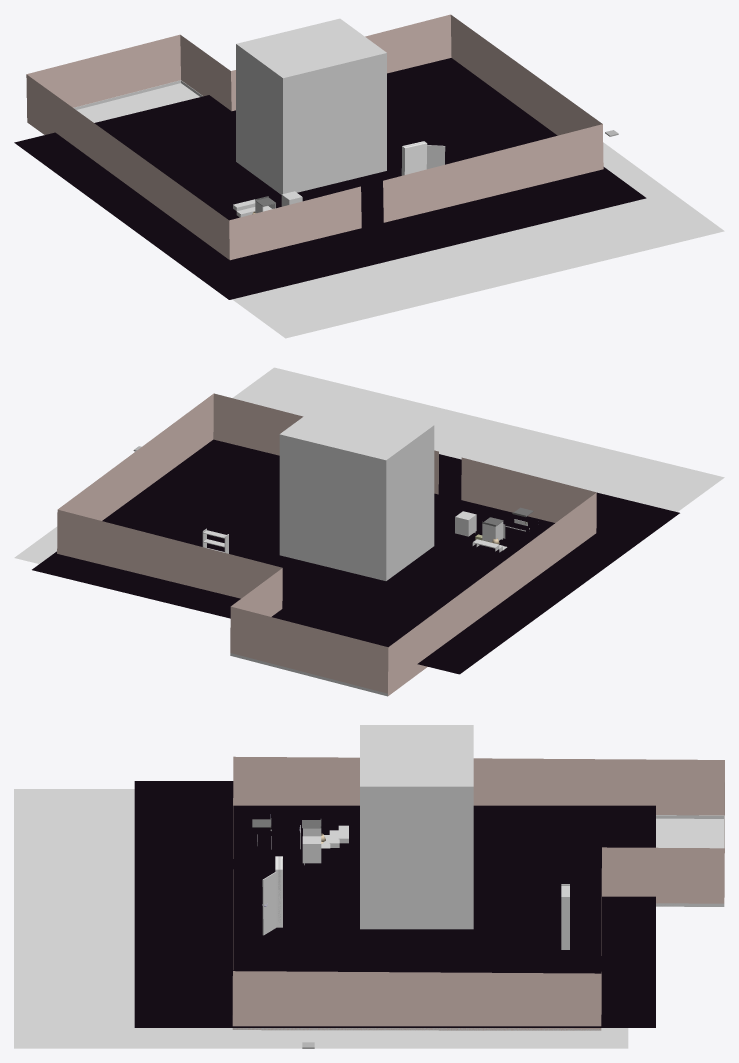
File: avi3.fbx
3 renders of one model, top to bottom at view 1: azimuth 30°, elevation 25°; view 2: azimuth 150°, elevation 25°; view 3: azimuth 270°, elevation 25°, orthographic. The views are drawn at different scales.
Visible parts, largest first — view 1: Plane, Room, Plane.001, Smoke Domain, Floor, CTRL_Hole; view 2: Plane, Room, Smoke Domain, Plane.001, Baseboard; view 3: Plane, Room, Plane.001, Smoke Domain, Floor, Baseboard, Door, Shelves1, Cabinet3.
Part boxes in pixels (x1,y1,x2,y2): Plane: [14, 58, 646, 299]; Room: [26, 14, 603, 260]; Plane.001: [232, 142, 724, 338]; Smoke Domain: [236, 18, 386, 194]; Floor: [76, 83, 199, 122]; CTRL_Hole: [401, 141, 427, 175]; Plane: [32, 439, 679, 674]; Room: [57, 393, 596, 695]; Smoke Domain: [279, 399, 434, 580]; Plane.001: [14, 367, 724, 563]; Baseboard: [230, 653, 390, 696]; Plane: [134, 781, 655, 1027]; Room: [232, 756, 724, 1030]; Plane.001: [14, 789, 628, 1048]; Smoke Domain: [360, 725, 473, 929]; Floor: [656, 818, 723, 848]; Baseboard: [232, 815, 724, 1030]; Door: [262, 872, 276, 935]; Shelves1: [561, 884, 569, 949]; Cabinet3: [303, 836, 321, 863].
Bounding box in the file's own units: 2088 × 695 × 2314.
